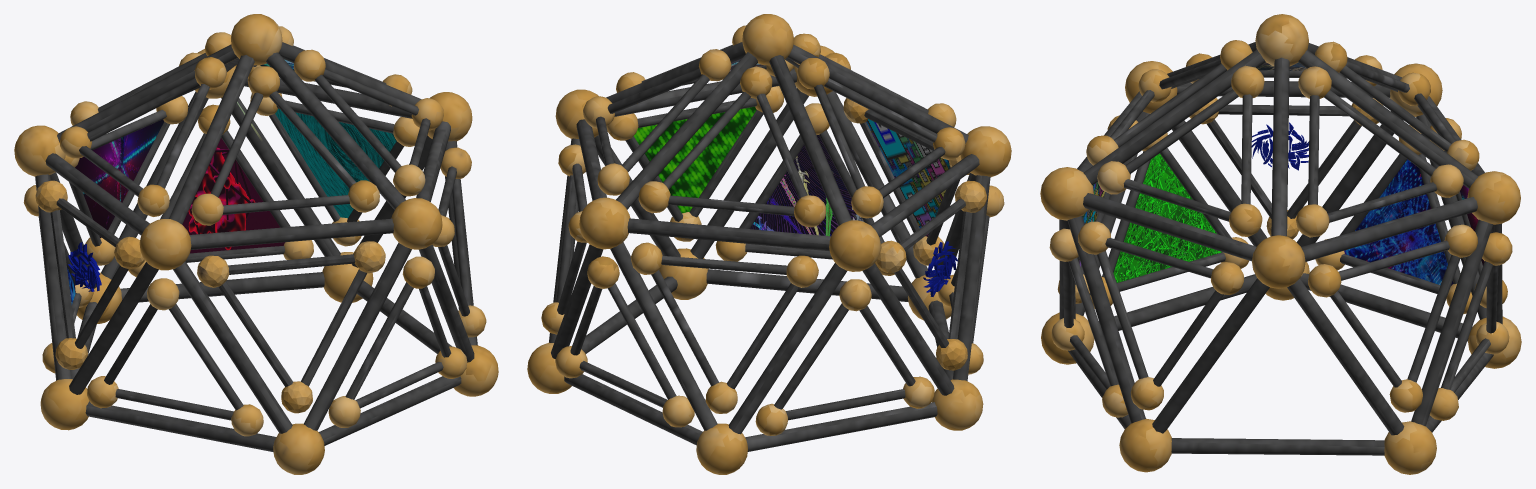
File: GeoBooth_V1.glb
3 views of the same model, side by side, from view 1: azimuth 30°, elevation 25°; view 2: azimuth 150°, elevation 25°; view 3: azimuth 270°, elevation 25° (orthographic). The views are drawn at different scales.
Parts seen in each view (by area): view 1: GeoBooth V1; view 2: GeoBooth V1; view 3: GeoBooth V1.
Boxes of the visible parts, x1=… form: GeoBooth V1: x1=14, y1=14, x2=498, y2=474; GeoBooth V1: x1=527, y1=14, x2=1011, y2=474; GeoBooth V1: x1=1040, y1=14, x2=1521, y2=474.
Bounding box in the file's own units: 8.23 × 6.83 × 7.86.
1 material, 1 textured.
